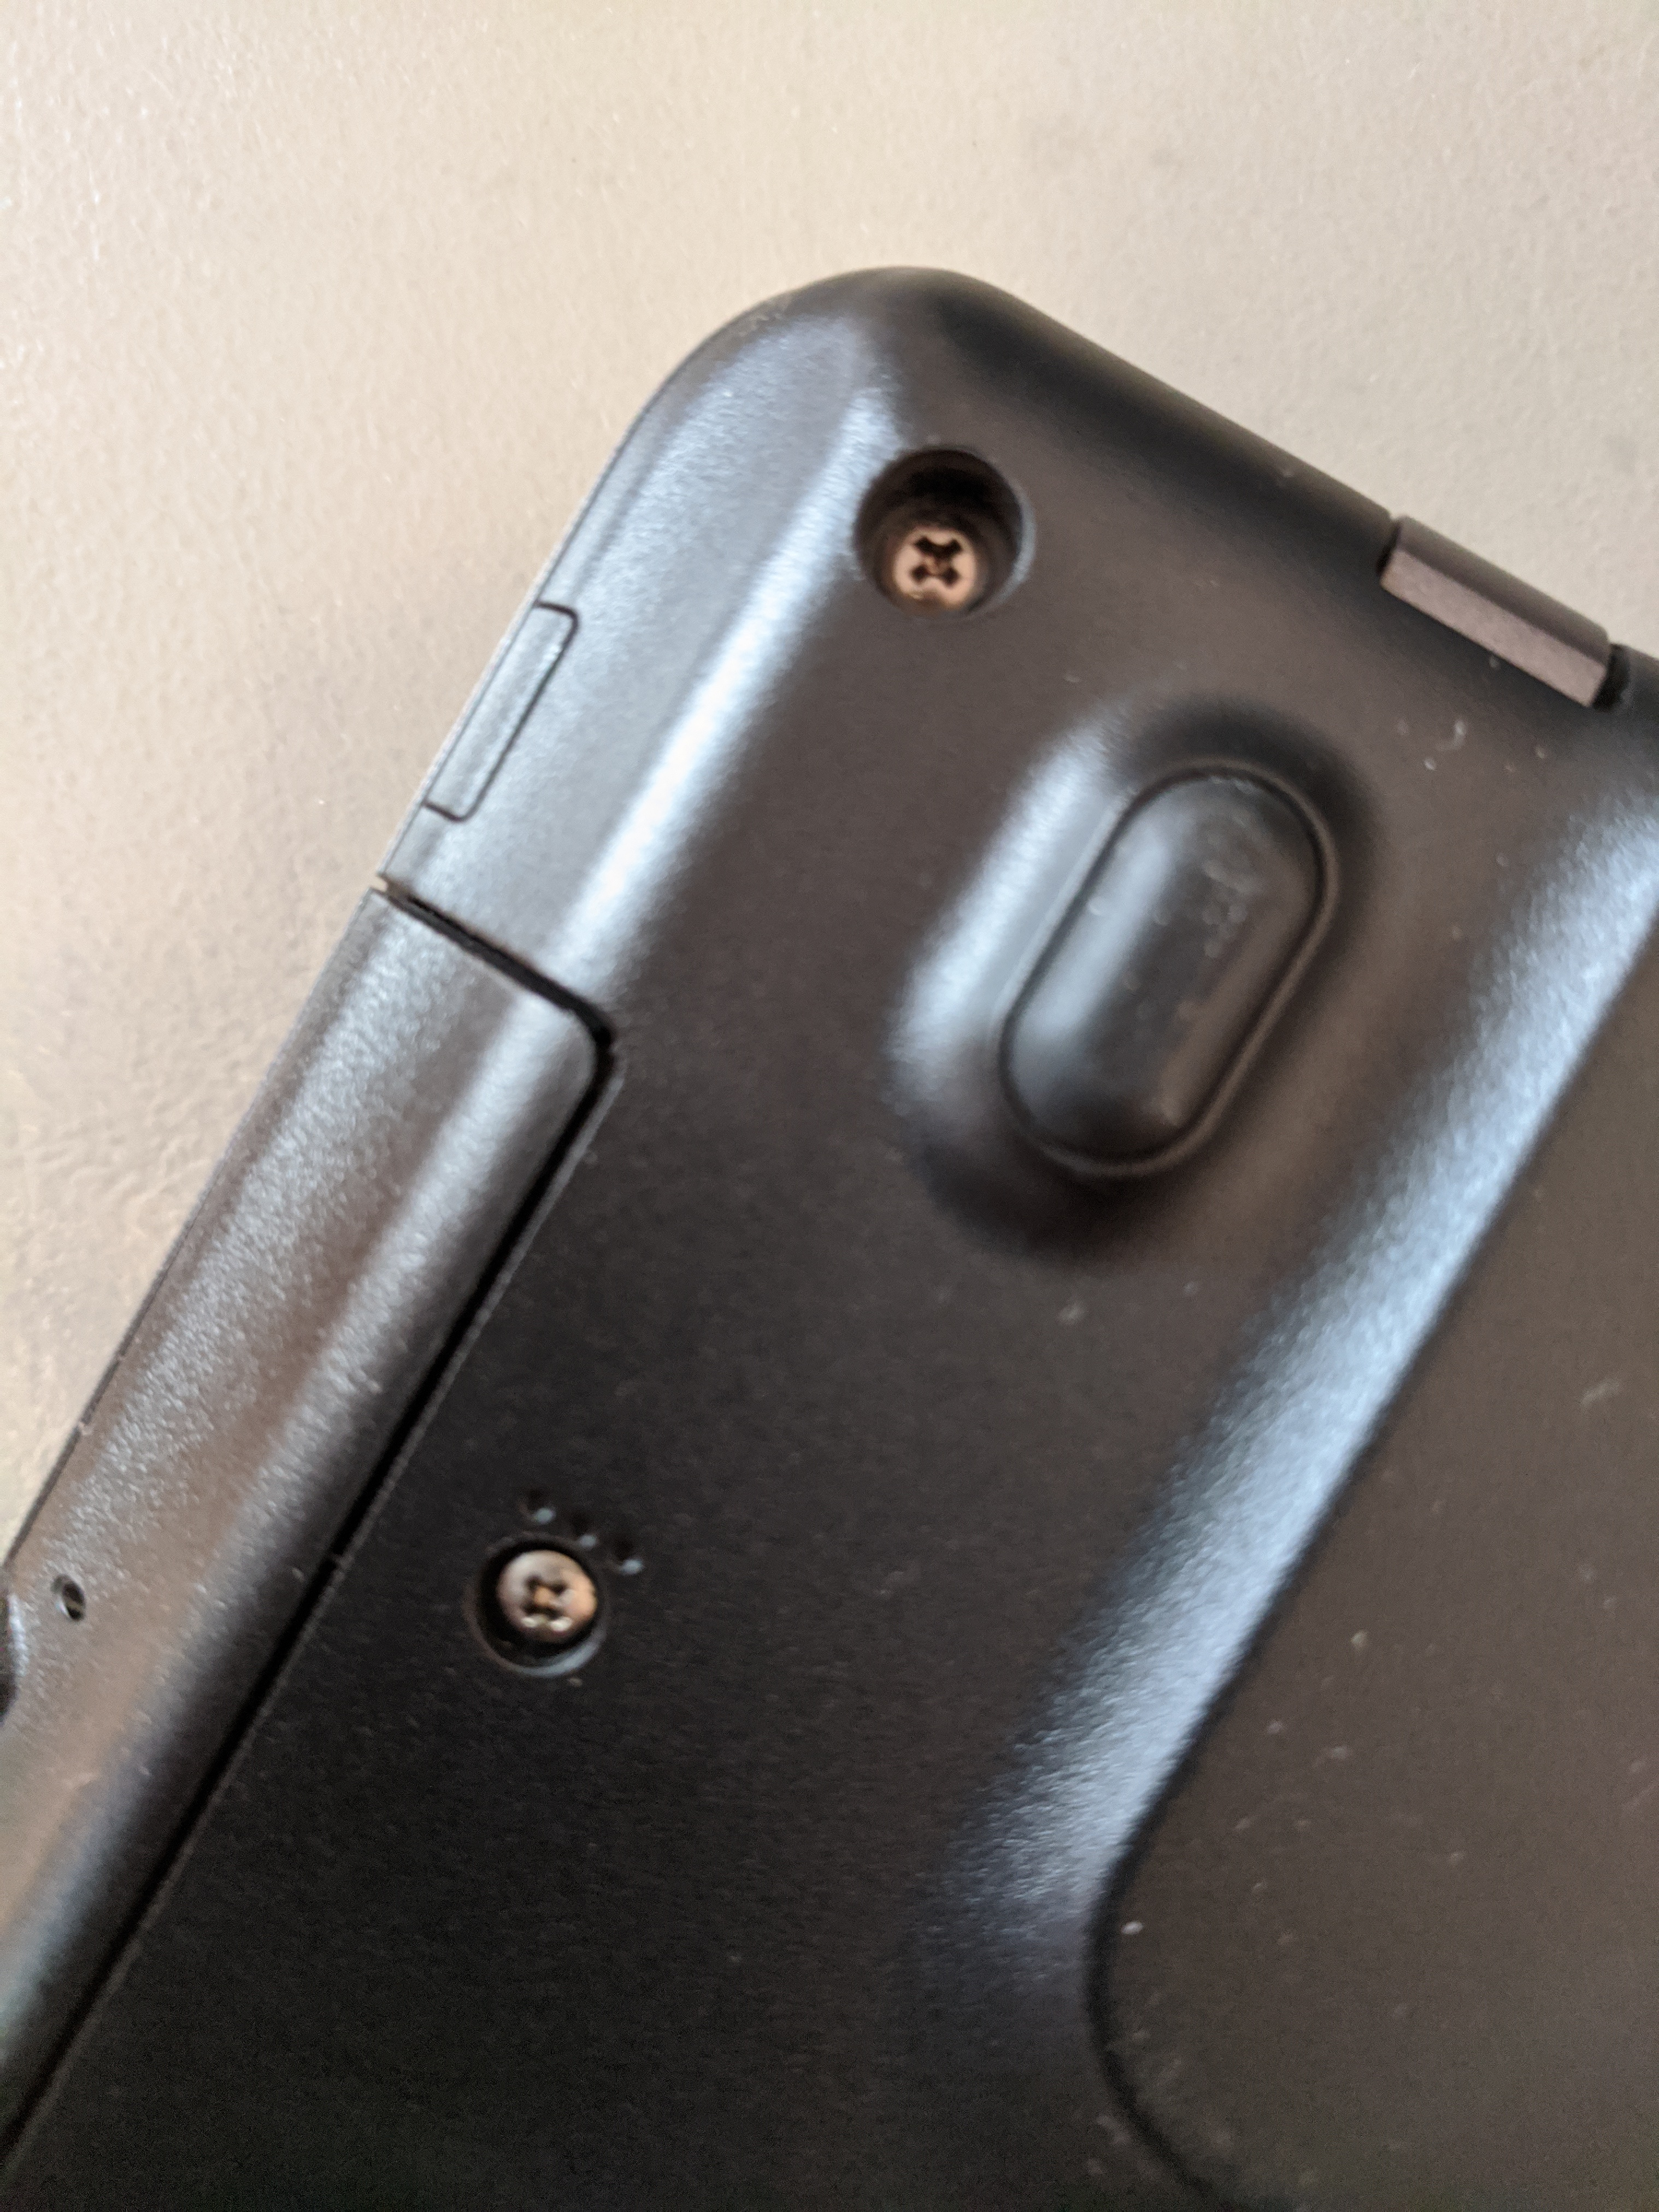cross_recessed_screw: (847, 470, 1004, 597), (472, 1548, 615, 1658)
